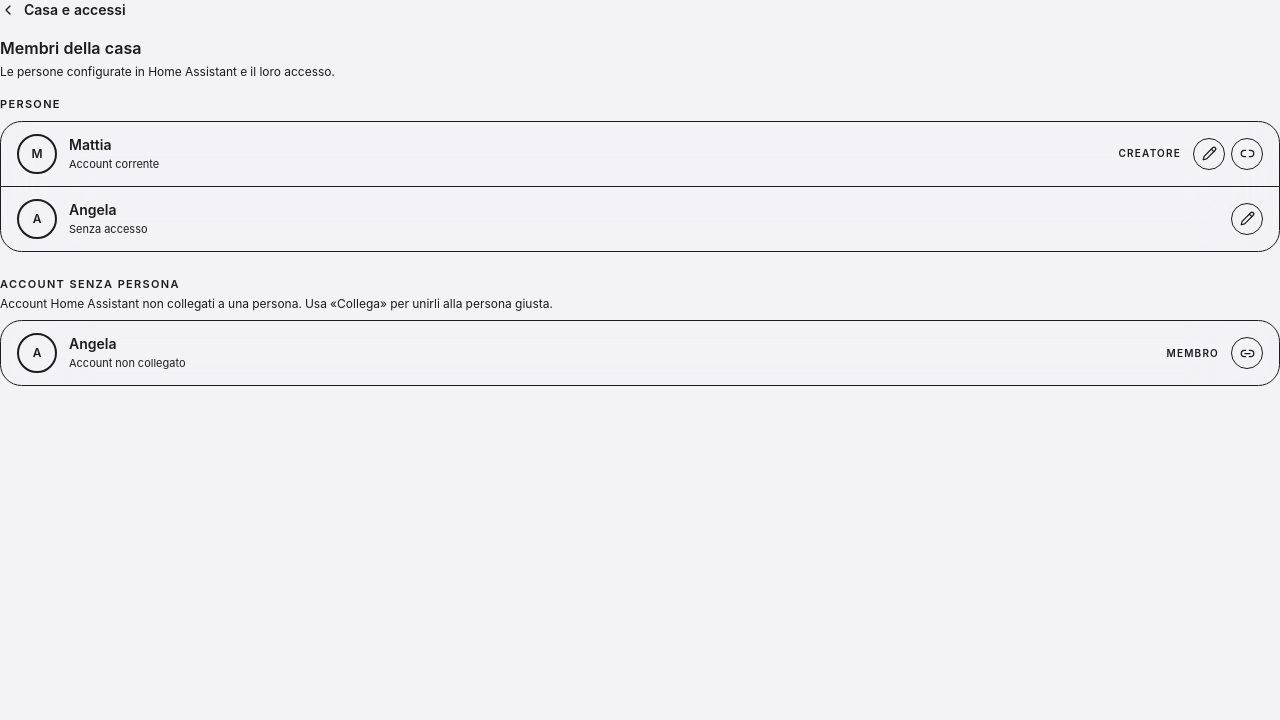
Scenario: SettingsHouseAccessSection › links an account to the person suggested by name after confirmation
Step 1. Click the button named "Collega a una persona: Angela" → [1247, 353], box [1231, 337, 1263, 369]
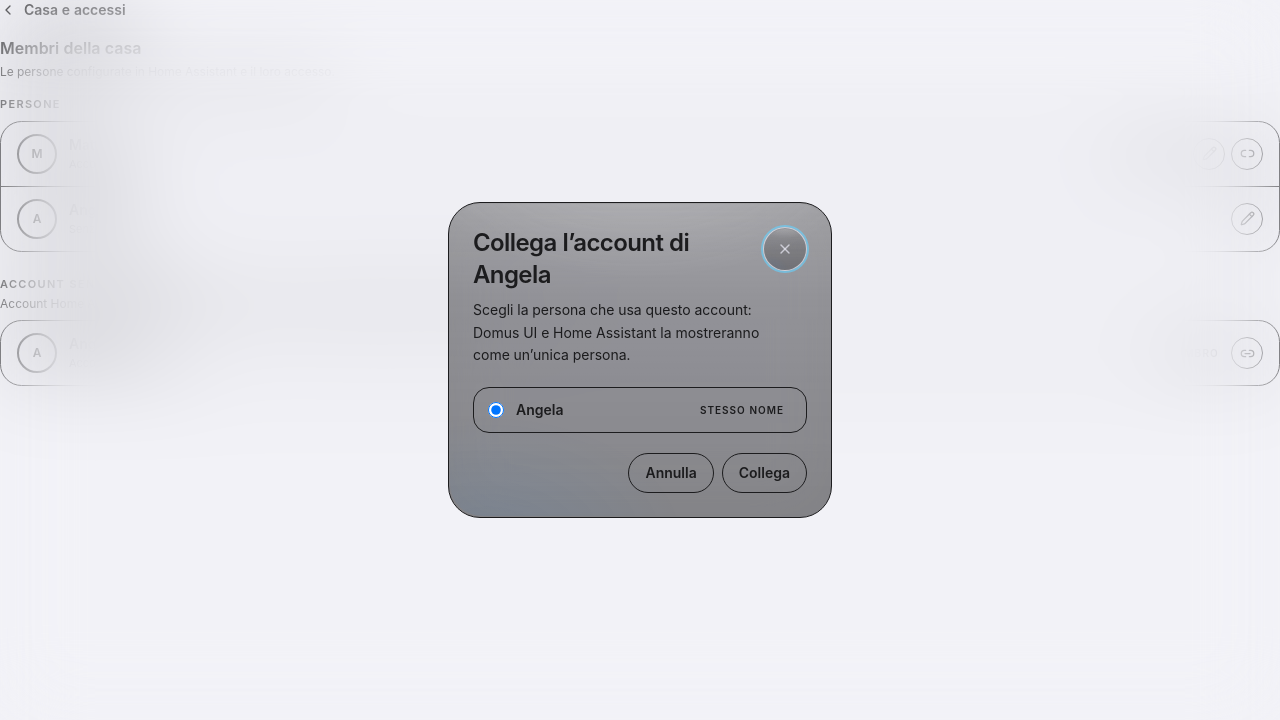
Expected: the heading "Collega l’account di Angela" is shown, [473, 228, 689, 289]
Expected: the text "Stesso nome" is shown, [700, 404, 784, 416]
Expected: the radio button is checked, [488, 402, 504, 418]
Step 2. Click the button "Collega" → [764, 473], box [722, 453, 807, 493]
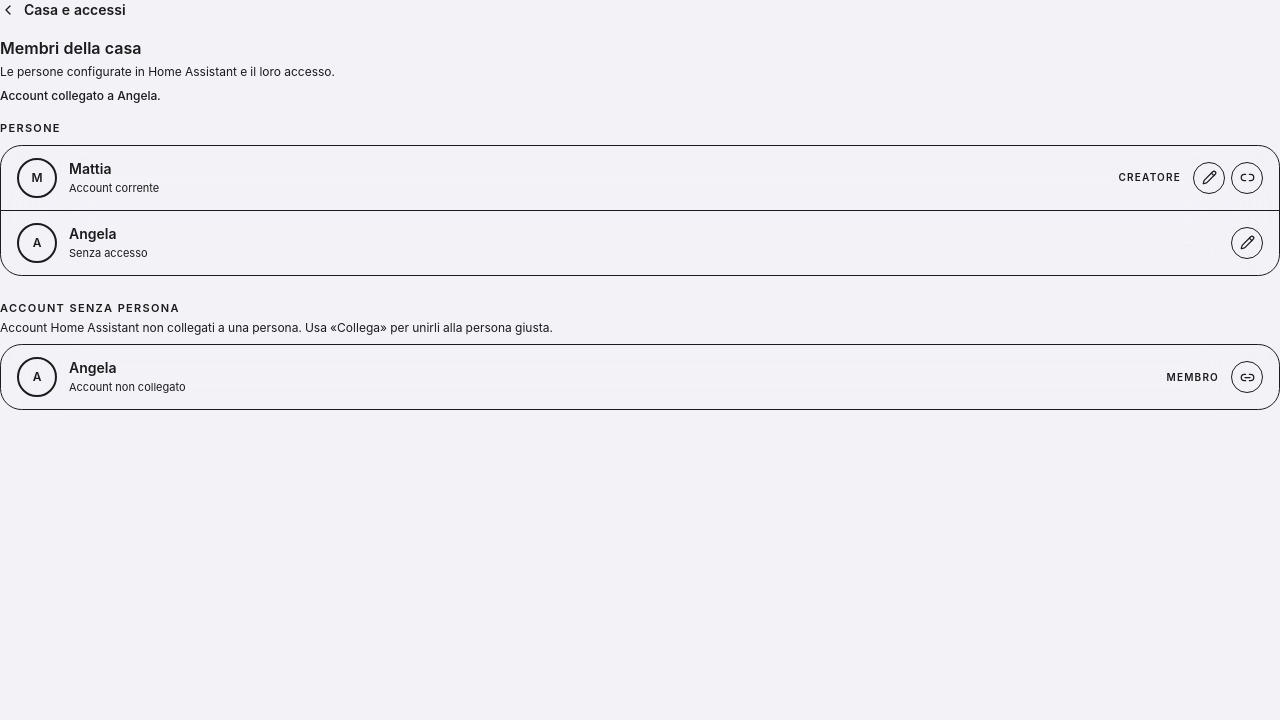
Expected: the text "Account collegato a Angela." is shown, [0, 88, 160, 103]
